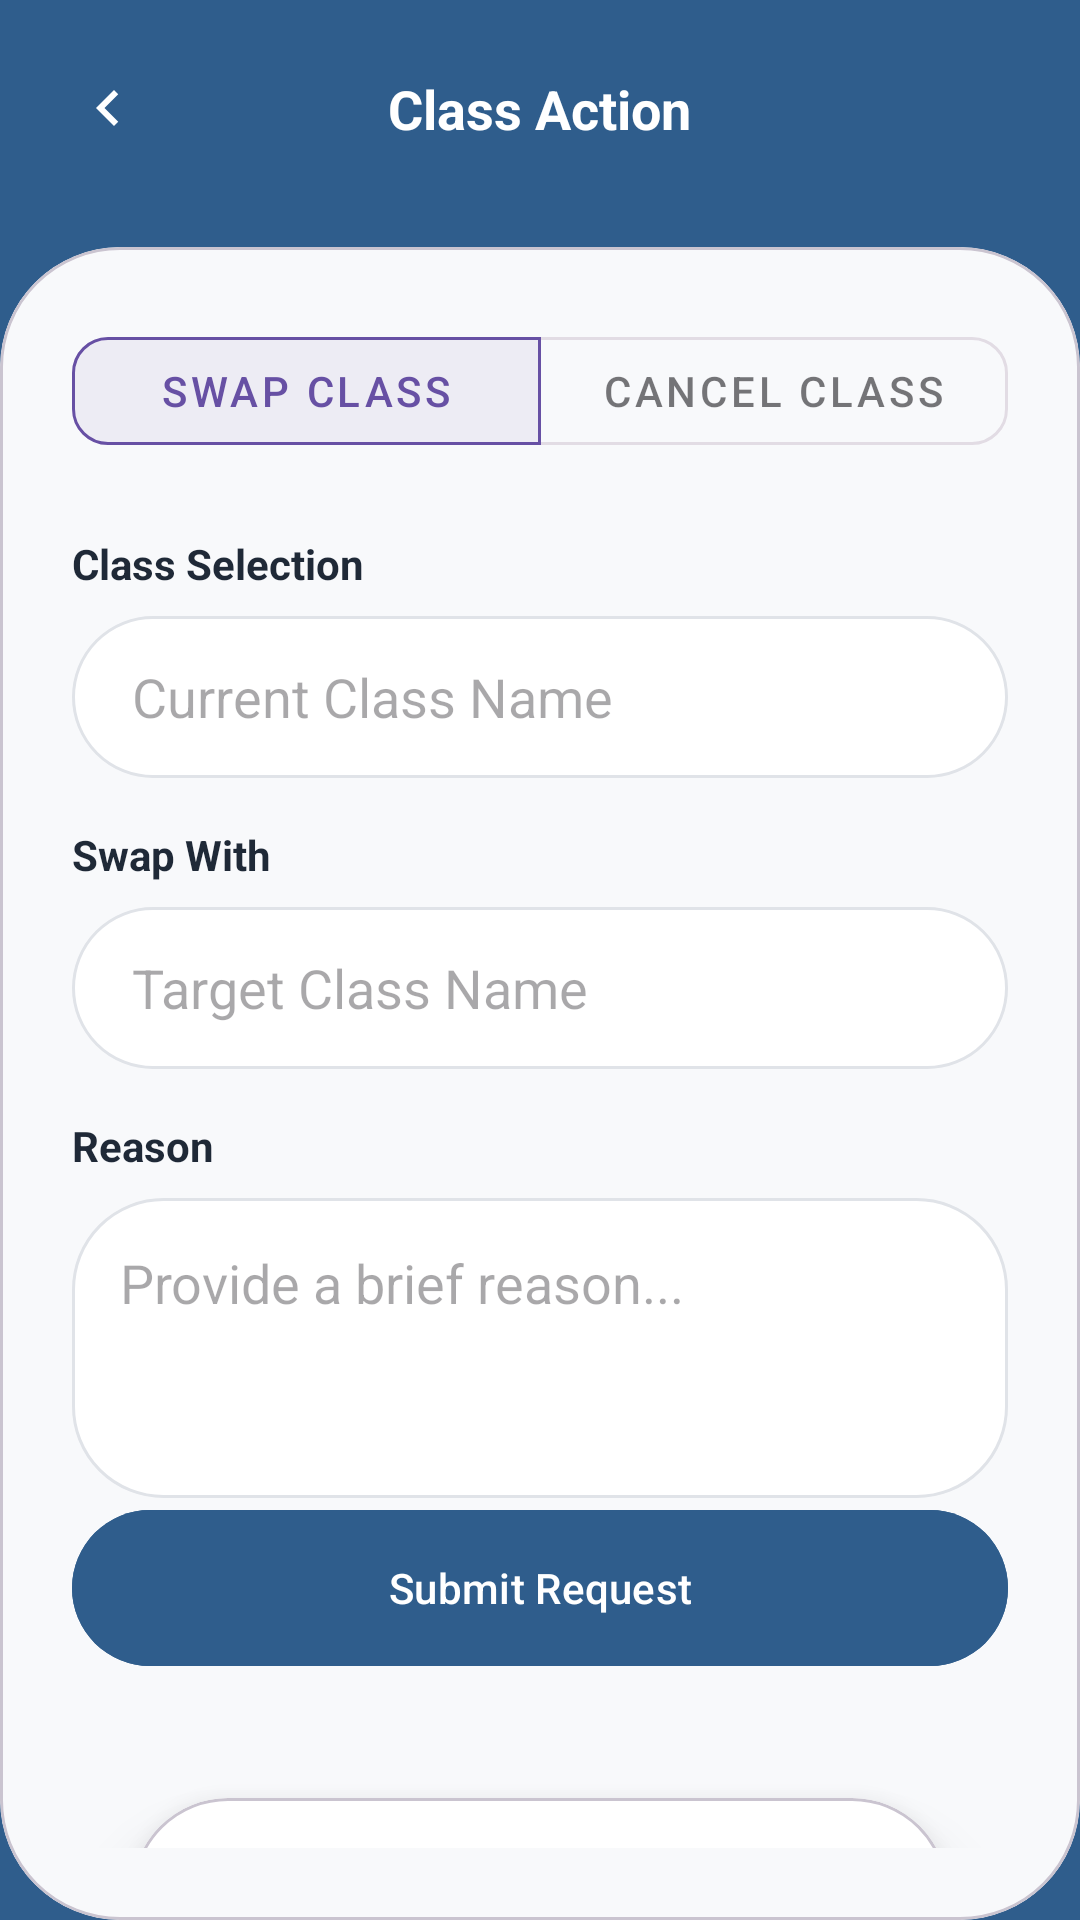

Named icons in this screenshot (1080 x 1920) and their bounding boxes, (x1, y1, x2, y2):
back: (96, 90, 118, 126)
